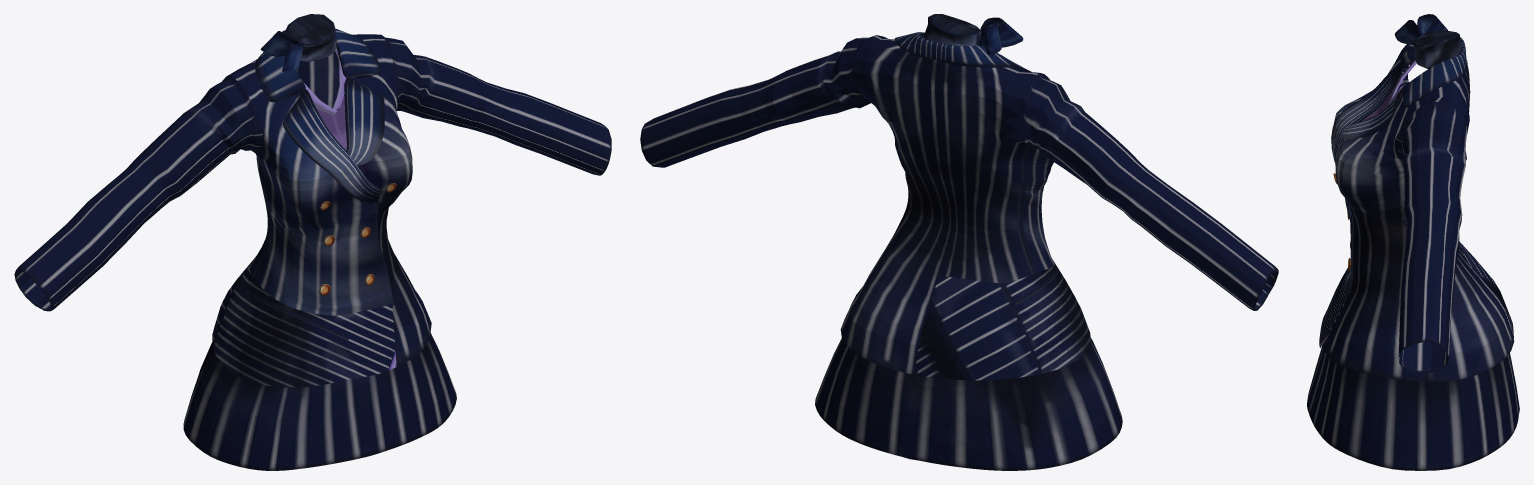
Rendered from cadnav.obj.
The picture shows the model from 3 angles, left to right: view 1: azimuth 30°, elevation 25°; view 2: azimuth 150°, elevation 25°; view 3: azimuth 270°, elevation 25°; orthographic projection. The views are drawn at different scales.
Parts seen in each view (by area): view 1: obja_fuku_03_17, obja_fuku_03_11, obja_fuku_03_23, obja_fuku_03_18, obja_fuku_03_09, obja_fuku_03_06, obja_fuku_03_22, obja_fuku_03_04, obja_fuku_03_27, obja_fuku_03_28, obja_fuku_03_10, obja_fuku_03_24 (+7 smaller); view 2: obja_fuku_03_24, obja_fuku_03_17, obja_fuku_03_11, obja_fuku_03_18, obja_fuku_03_09, obja_fuku_03_06, obja_fuku_03_21, obja_fuku_03_10, obja_fuku_03_04, obja_fuku_03_08, obja_fuku_03_23, obja_fuku_03_20 (+3 smaller); view 3: obja_fuku_03_18, obja_fuku_03_10, obja_fuku_03_21, obja_fuku_03_22, obja_fuku_03_04, obja_fuku_03_08, obja_fuku_03_26, obja_fuku_03_27, obja_fuku_03_20, obja_fuku_03_11, obja_fuku_03_28, obja_fuku_03_19 (+4 smaller).
Part boxes in pixels (x1,y1,x2,y2): obja_fuku_03_17: (14,76,263,311); obja_fuku_03_11: (212,263,396,387); obja_fuku_03_23: (203,372,369,470); obja_fuku_03_18: (382,35,611,175); obja_fuku_03_09: (249,174,393,315); obja_fuku_03_06: (227,59,380,228); obja_fuku_03_22: (359,333,456,455); obja_fuku_03_04: (296,34,412,213); obja_fuku_03_27: (283,89,380,202); obja_fuku_03_28: (344,78,384,165); obja_fuku_03_10: (391,259,431,365); obja_fuku_03_24: (183,342,231,451); obja_fuku_03_24: (910,360,1109,470); obja_fuku_03_17: (1020,73,1278,310); obja_fuku_03_11: (914,263,1090,380); obja_fuku_03_18: (640,37,870,167); obja_fuku_03_09: (939,168,1054,282); obja_fuku_03_06: (937,60,1053,177); obja_fuku_03_21: (815,338,918,458); obja_fuku_03_10: (840,249,938,375); obja_fuku_03_04: (852,38,942,167); obja_fuku_03_08: (884,151,952,275); obja_fuku_03_23: (1077,337,1122,442); obja_fuku_03_20: (923,14,980,45); obja_fuku_03_18: (1395,102,1467,372); obja_fuku_03_10: (1322,260,1514,381); obja_fuku_03_21: (1405,353,1519,470); obja_fuku_03_22: (1307,349,1406,470); obja_fuku_03_04: (1335,59,1470,213); obja_fuku_03_08: (1349,205,1464,295); obja_fuku_03_26: (1401,45,1466,108); obja_fuku_03_27: (1331,67,1402,165); obja_fuku_03_20: (1413,30,1462,68); obja_fuku_03_11: (1319,241,1513,347); obja_fuku_03_28: (1339,89,1402,139); obja_fuku_03_19: (1394,14,1447,44).
Bounding box in the file's own units: 4.13 × 2.58 × 1.31.
